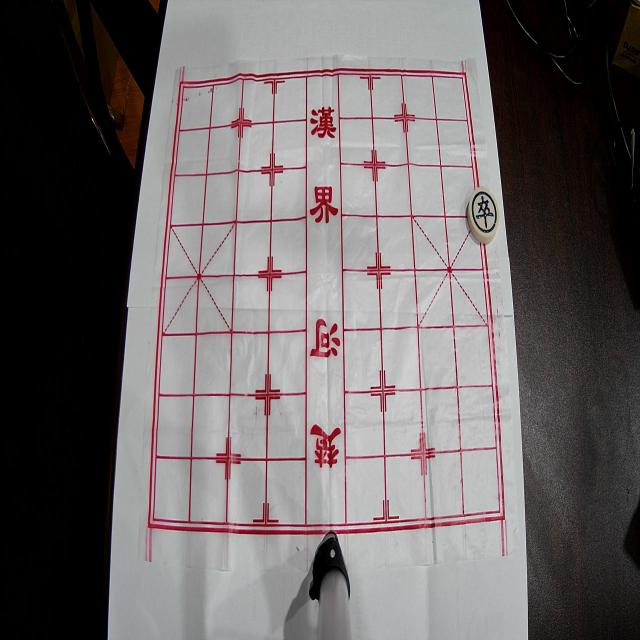black-soldier: (468, 187, 500, 243)
